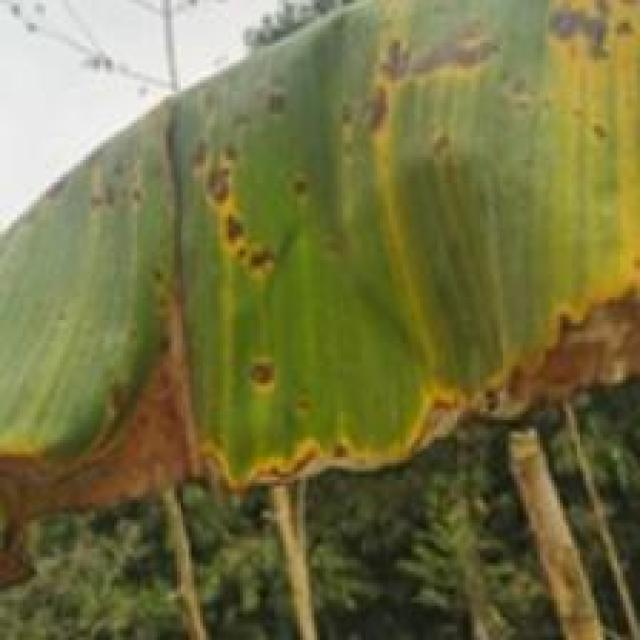Downey_mildrew: (0, 69, 328, 520), (328, 0, 637, 418), (329, 410, 472, 480)
